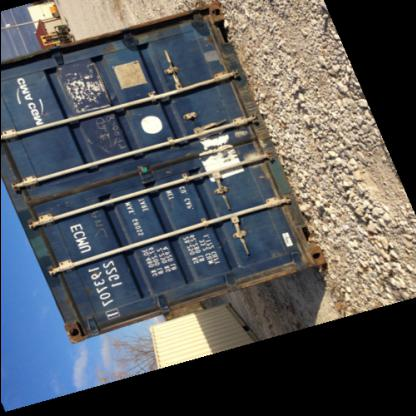Damage: (184, 118, 262, 178), (52, 64, 112, 115), (266, 230, 324, 274), (74, 116, 130, 158), (180, 8, 222, 58), (60, 307, 92, 341), (82, 209, 112, 242)
